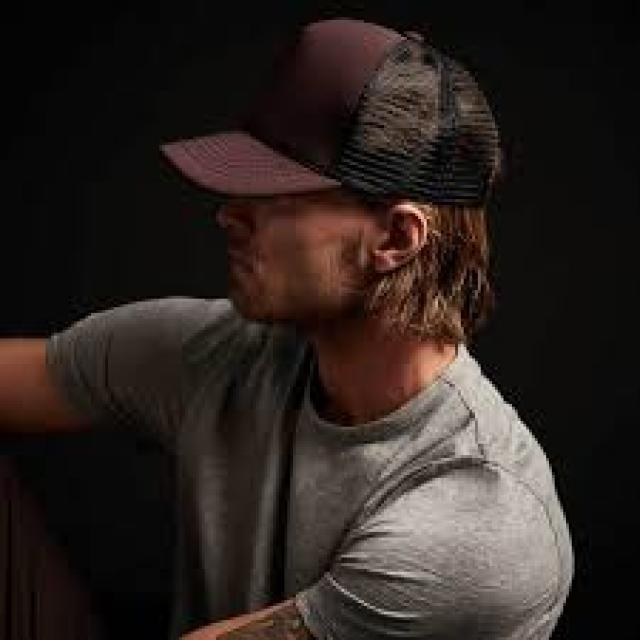cap: (125, 0, 555, 276)
